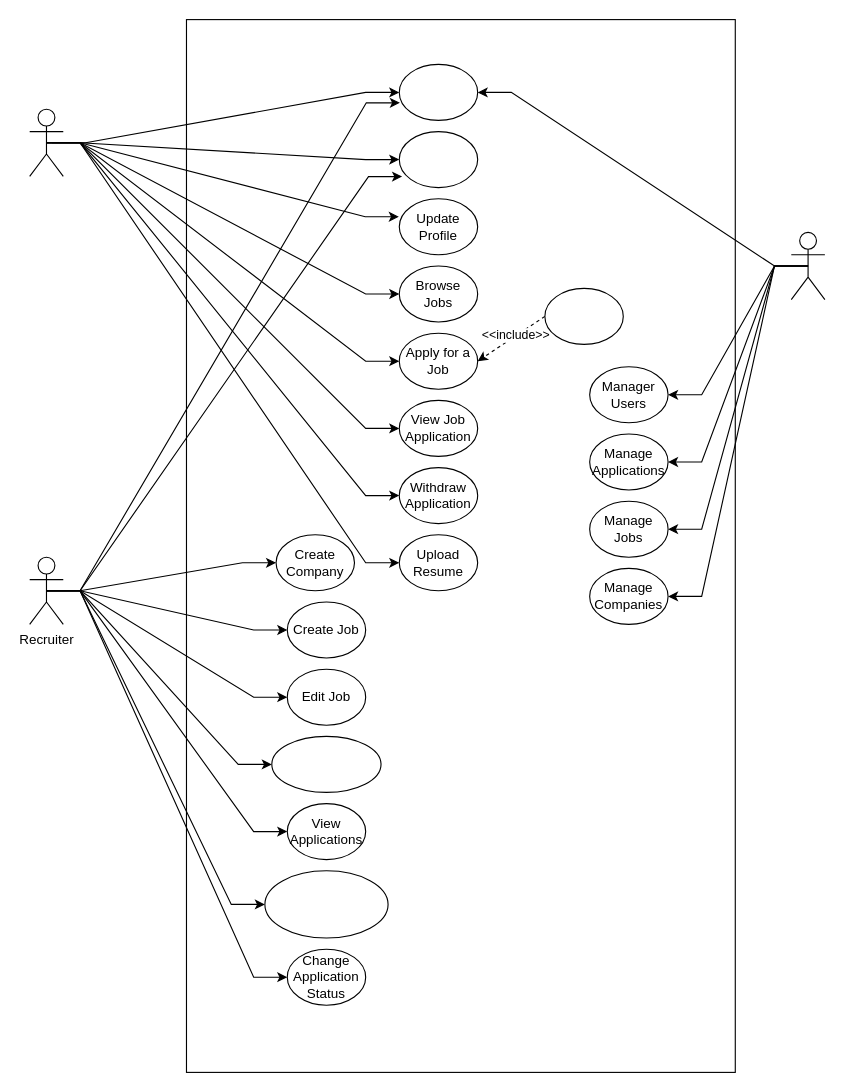
Image size: 847x1092. Some labels were removed from this diagram. Here are the shapes that lost their labels. From the top down, the box of each, then its label:
(398, 63, 478, 120): Register
(29, 108, 63, 176): Applicant
(398, 130, 478, 188): Login
(790, 231, 825, 300): Admin
(544, 287, 623, 344): Check Eligibility
(271, 735, 381, 792): Publish/Close Job
(264, 870, 388, 938): View Applicant Resume & Profile
